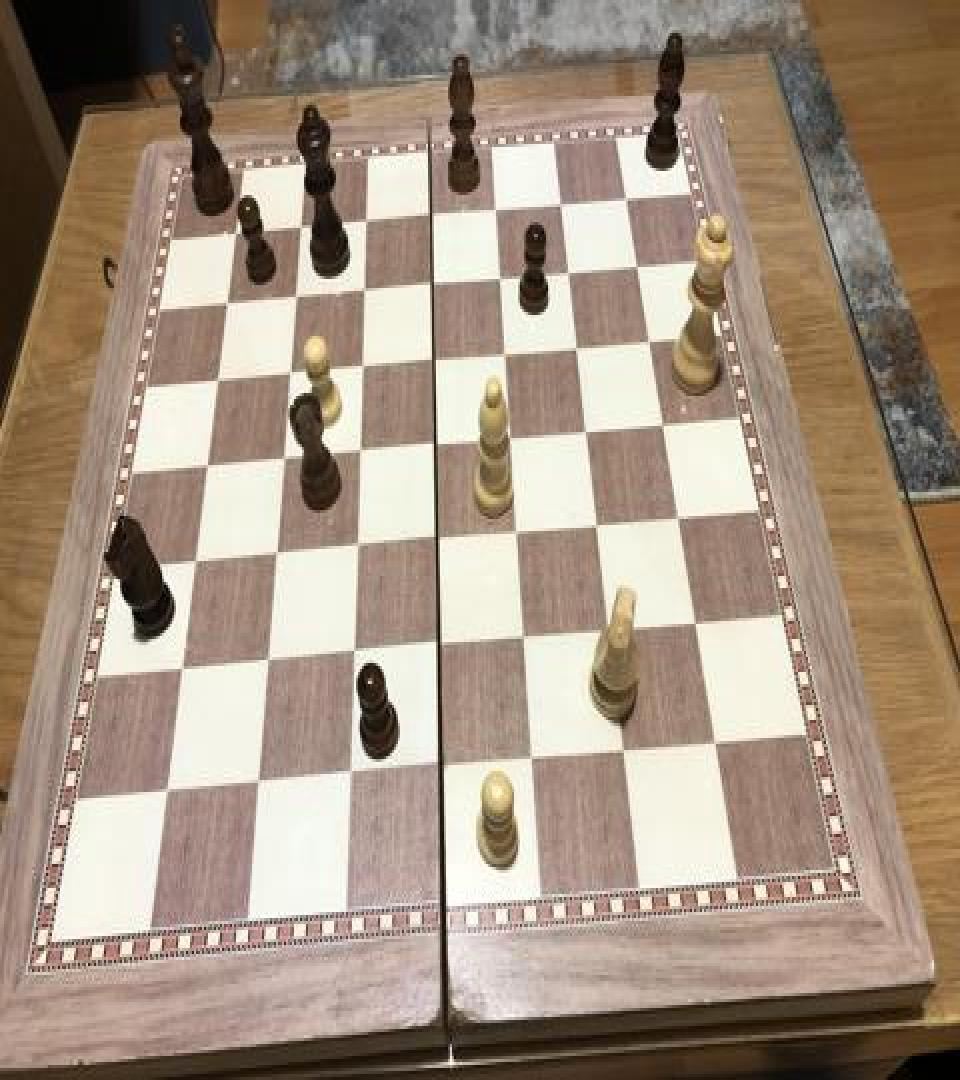xcorner: (511, 622, 535, 659), (426, 631, 450, 668), (255, 646, 279, 683), (610, 733, 634, 770), (519, 742, 543, 779), (611, 183, 635, 219), (546, 189, 570, 225), (481, 196, 505, 232), (416, 202, 440, 238), (351, 208, 375, 244), (221, 220, 245, 256), (623, 252, 647, 288), (554, 258, 578, 294), (486, 264, 510, 300), (418, 272, 442, 308), (349, 278, 373, 314), (281, 284, 305, 320), (213, 291, 237, 327), (635, 327, 659, 363), (563, 333, 587, 369), (491, 340, 515, 376), (419, 346, 443, 382), (347, 354, 371, 390), (276, 360, 300, 396), (204, 368, 228, 404), (649, 410, 673, 446), (573, 417, 597, 453), (497, 424, 521, 460), (345, 438, 369, 474), (194, 453, 218, 489), (664, 502, 688, 538), (584, 510, 608, 546), (503, 518, 527, 554), (423, 525, 447, 561), (343, 532, 367, 568), (263, 540, 287, 576), (183, 548, 207, 584), (681, 608, 705, 644), (596, 615, 620, 651), (340, 639, 364, 675), (170, 656, 194, 692), (701, 724, 725, 760), (428, 752, 452, 788), (337, 759, 361, 795), (247, 768, 271, 804), (156, 777, 180, 813), (286, 215, 310, 250), (421, 431, 445, 466), (270, 446, 294, 481)
